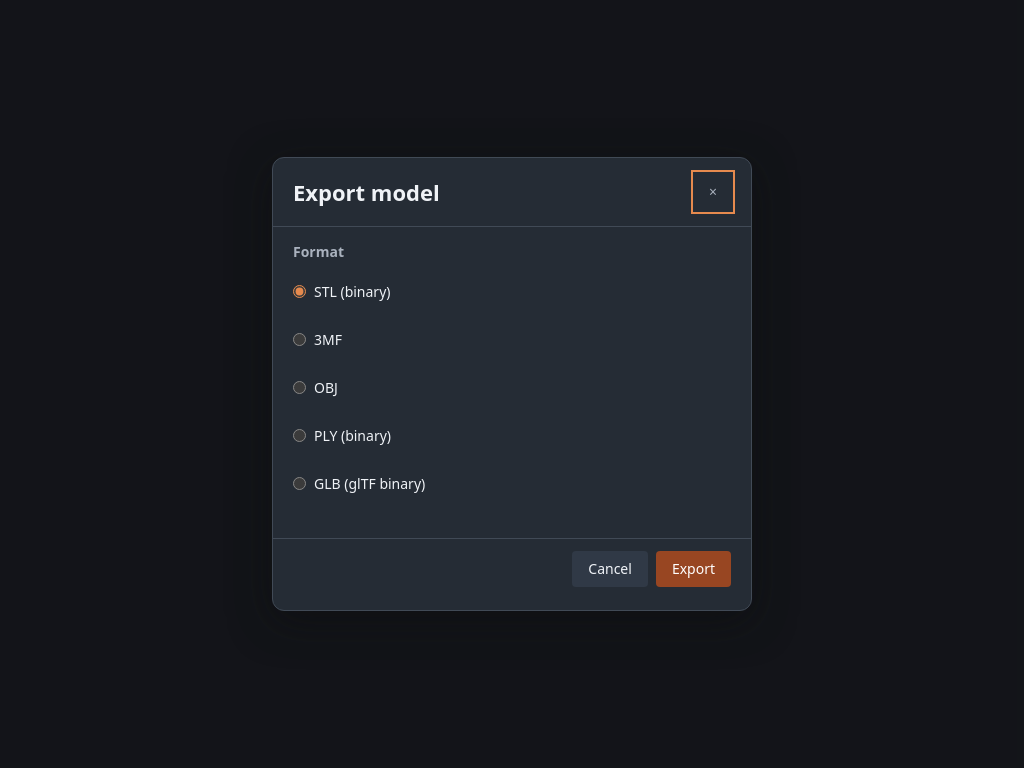
Scenario: ExportDialog › stops before processing when the picker rejects with {}
The image size is (1024, 768).
Click the button "Export" at (693, 569), box [656,551,731,587]
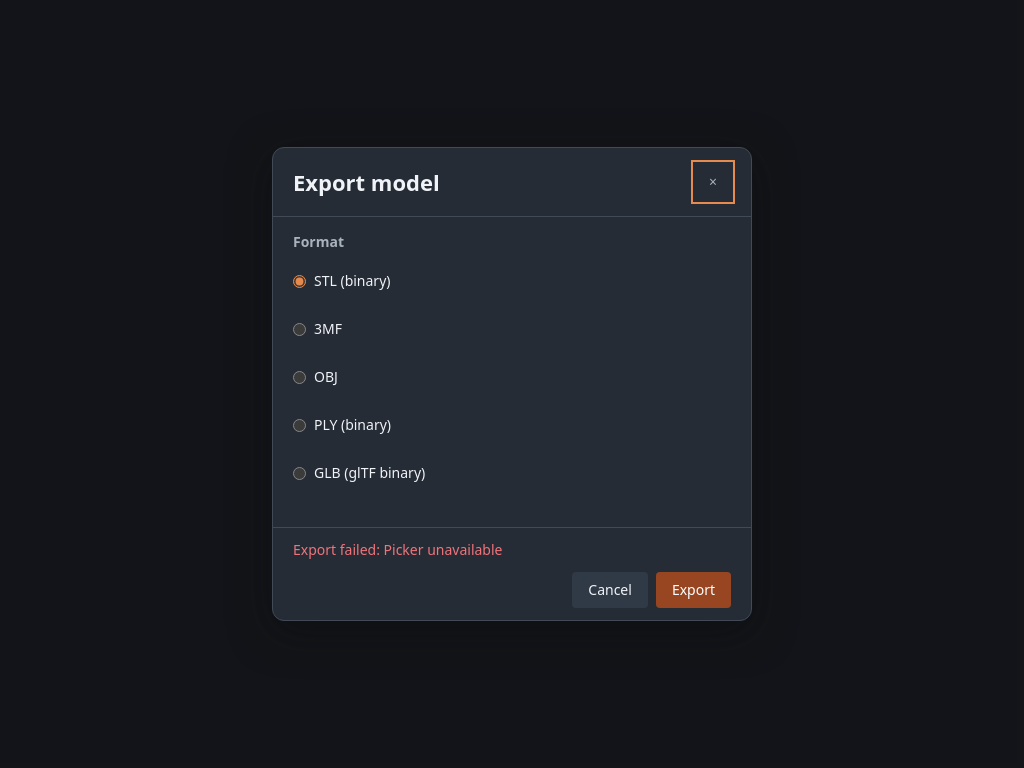
Expected: the button "Export" is enabled, [656,572,731,608]
Result: the message shows "Picker unavailable" at [384,540,502,559]
